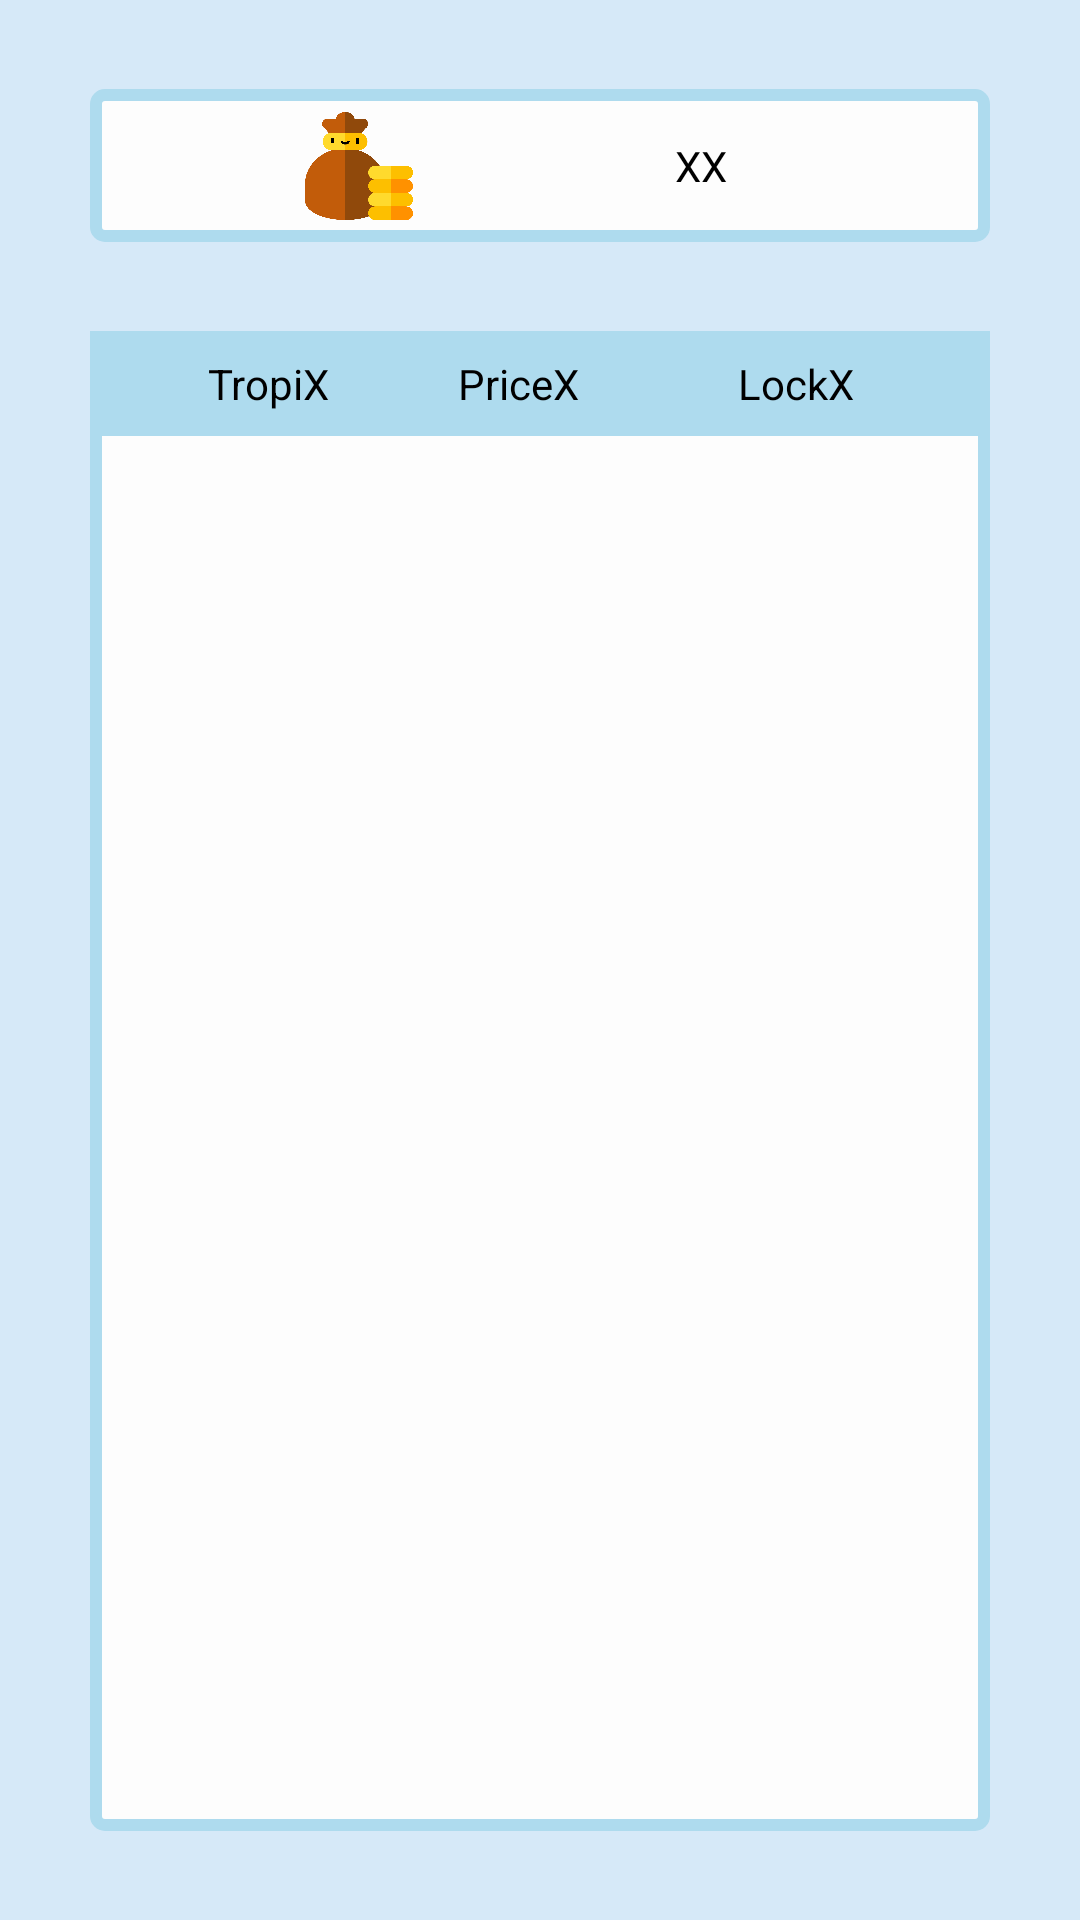

Screen size 1080×1920. Icon name, then its box in pixels as (x1, y1, x2, y2):
coins: (305, 112, 413, 220)
